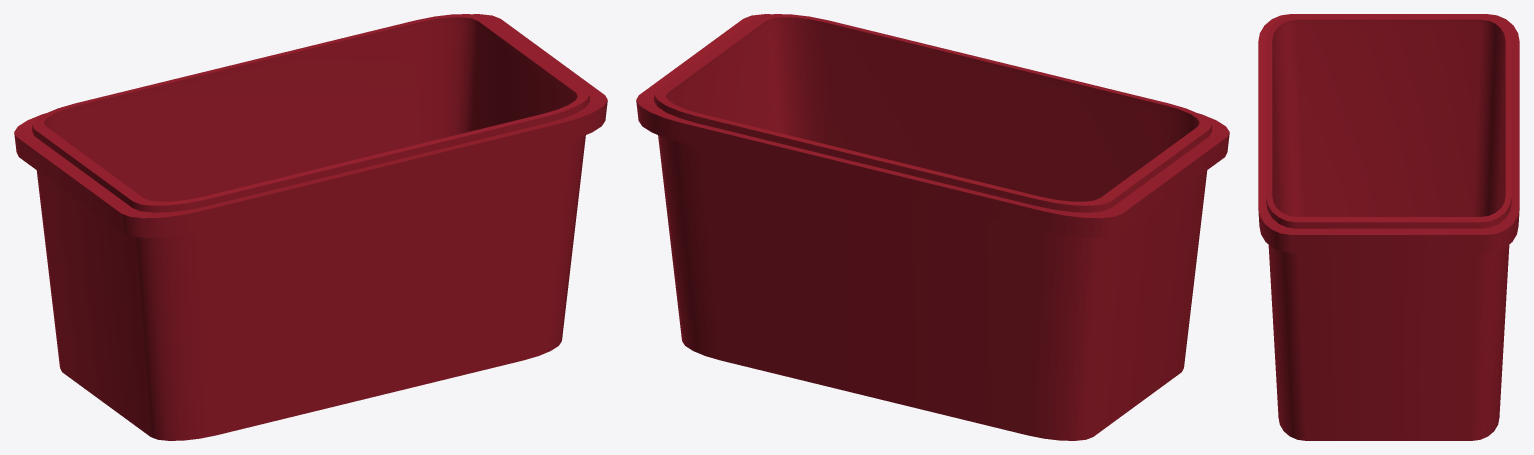
3 renders of one model, left to right at view 1: azimuth 30°, elevation 25°; view 2: azimuth 150°, elevation 25°; view 3: azimuth 270°, elevation 25°, orthographic. The views are drawn at different scales.
Parts seen in each view (by area): view 1: box1; view 2: box1; view 3: box1.
Boxes of the visible parts, x1,y1,x2,y2 form: box1: [14, 14, 607, 440]; box1: [636, 14, 1229, 440]; box1: [1258, 14, 1519, 440].
Size of the model in its own units: 74.94 by 36.27 by 37.47.
